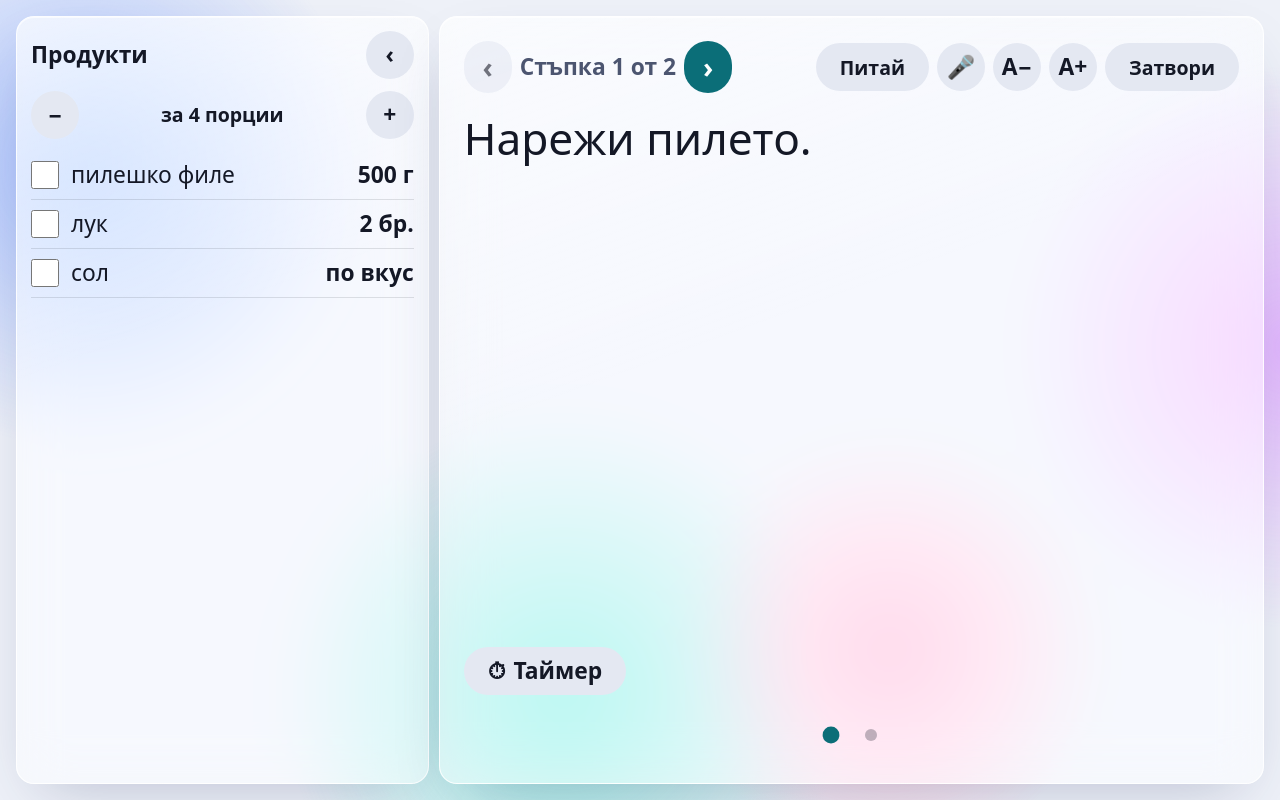
Test: Сигнал при изтичане на таймер › звукът спира сам след 2 минути, а банерът остава
The image size is (1280, 800).
Click the button named "Напред" at (708, 67), box [684,41,732,93]
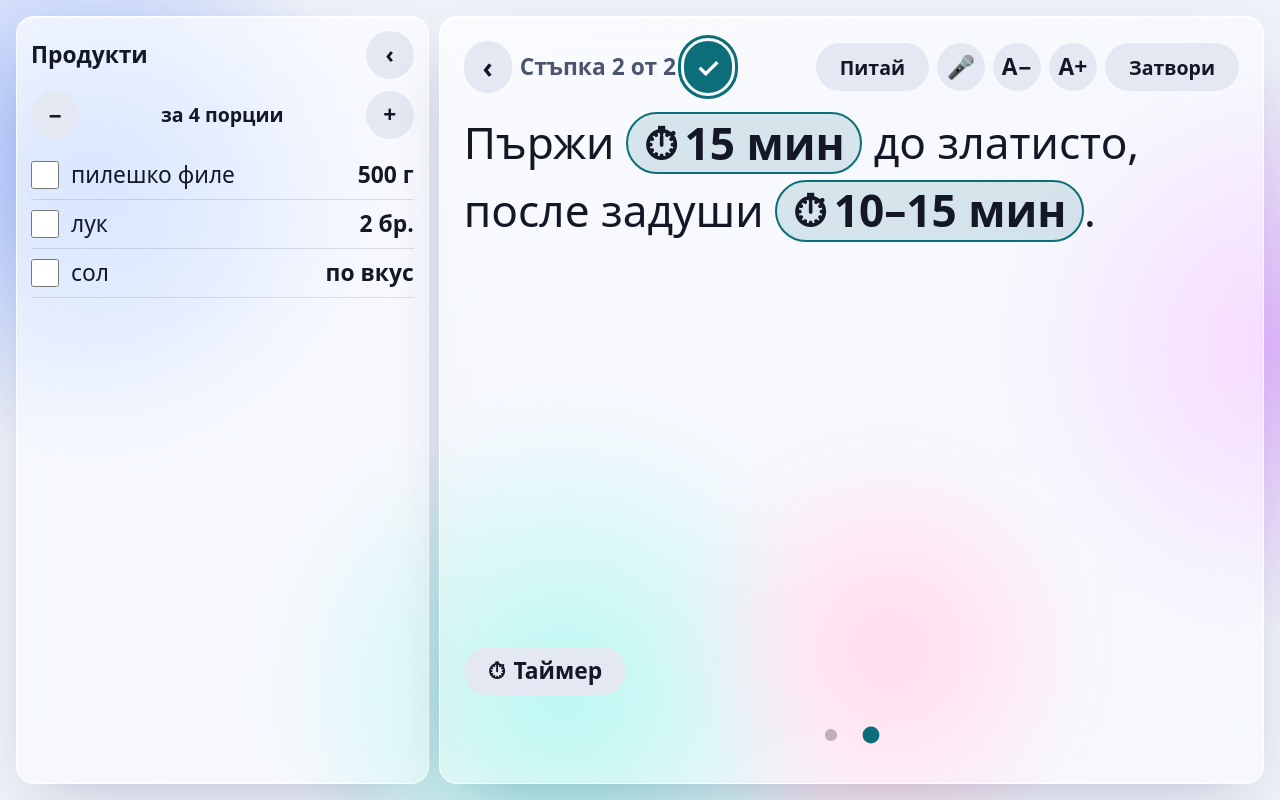
Click the button with aria-label "Таймер 15 мин" at (744, 143), box [626,112,862,174]
Wait 1080000 ms
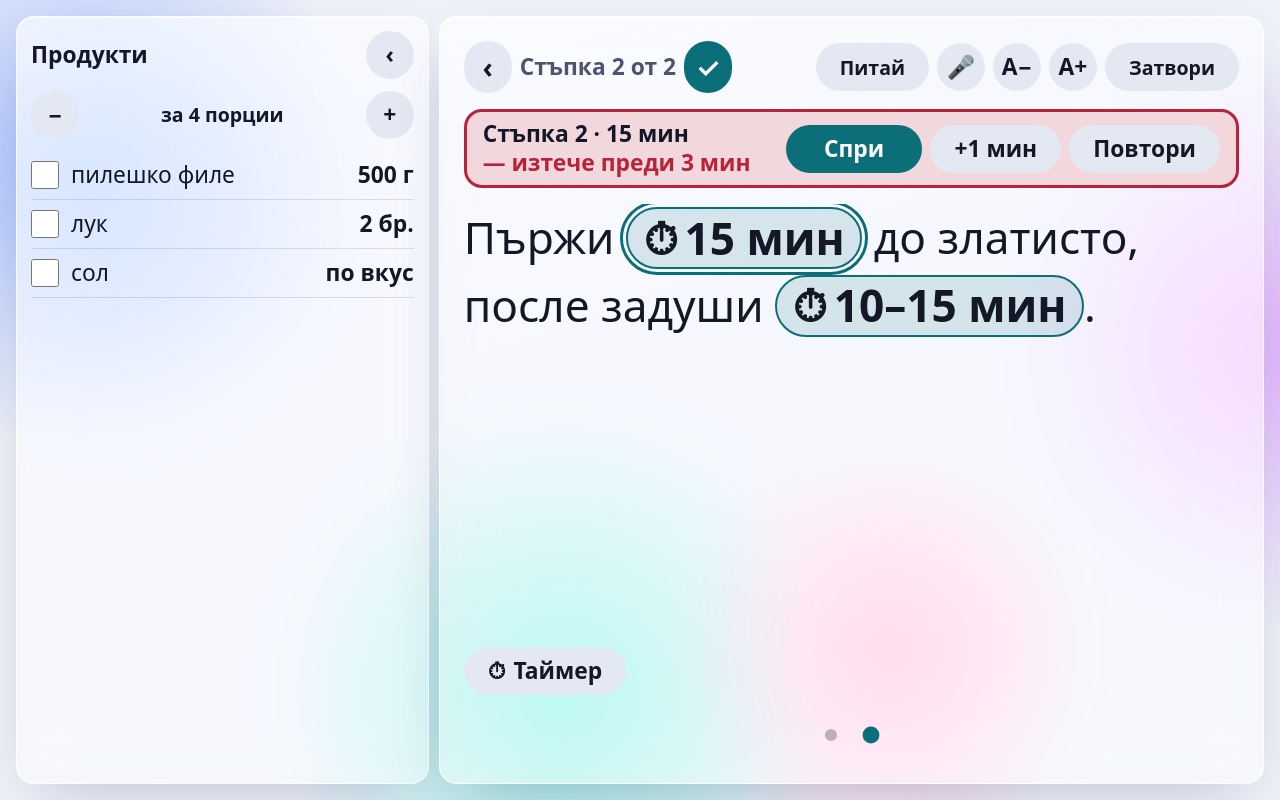
Expected: the number of messages is 1, [464,109,1239,188]
